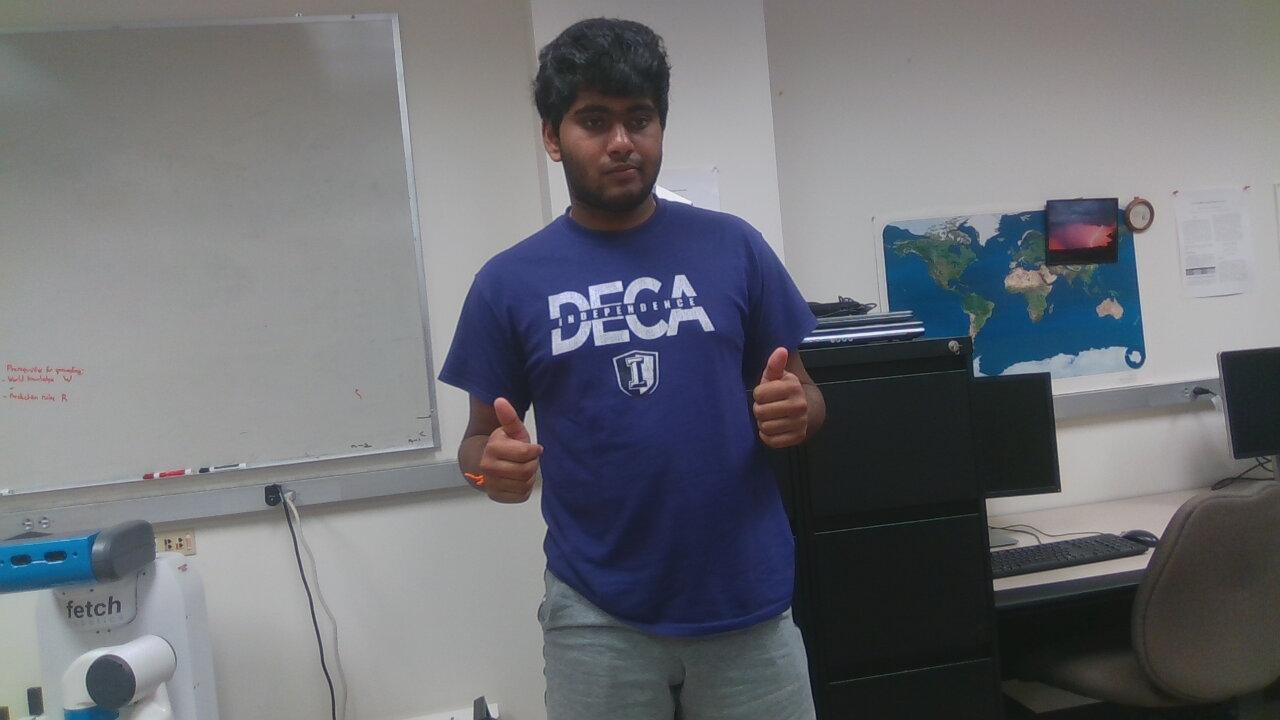hands: (471, 392, 552, 509), (748, 337, 817, 461)
